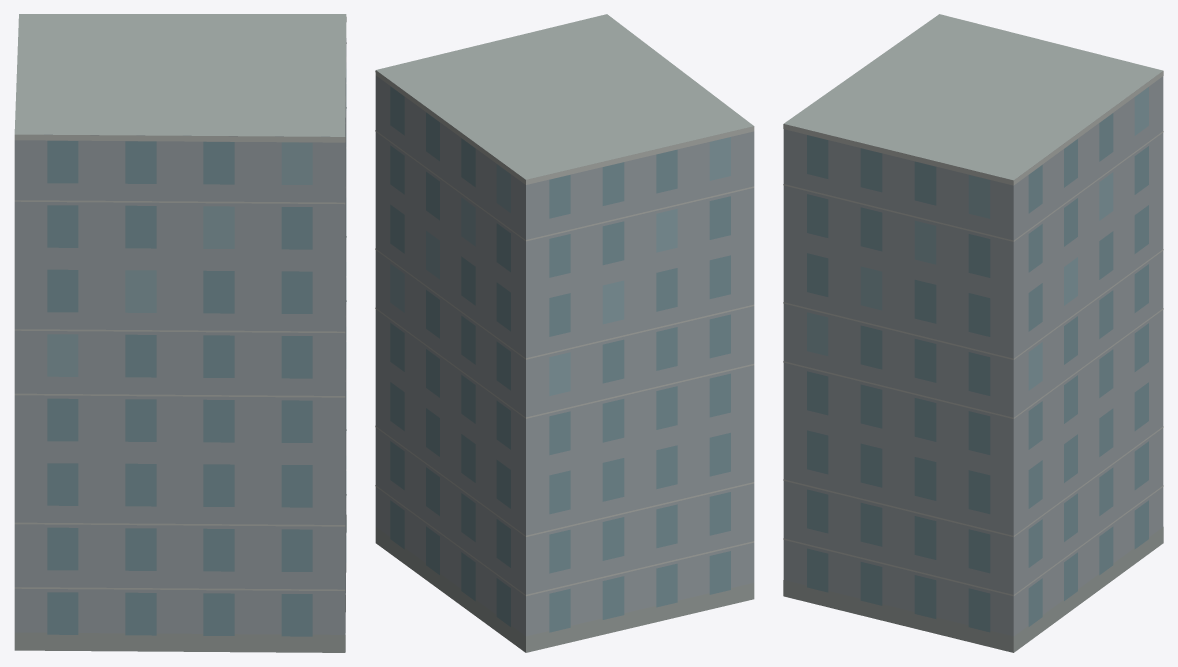
The model's file is survey-upis-32943002.glb.
The picture shows the model from 3 angles, left to right: view 1: azimuth 30°, elevation 25°; view 2: azimuth 150°, elevation 25°; view 3: azimuth 270°, elevation 25°; orthographic projection. The views are drawn at different scales.
Visible parts, largest first — view 1: survey-upis-32943002.tmp; view 2: survey-upis-32943002.tmp; view 3: survey-upis-32943002.tmp.
Boxes of the visible parts, bbox=[...] form: survey-upis-32943002.tmp: bbox=[14, 14, 346, 652]; survey-upis-32943002.tmp: bbox=[375, 14, 754, 652]; survey-upis-32943002.tmp: bbox=[783, 14, 1163, 652].
Size of the model in its own units: 16.56 by 21.9 by 15.98.
